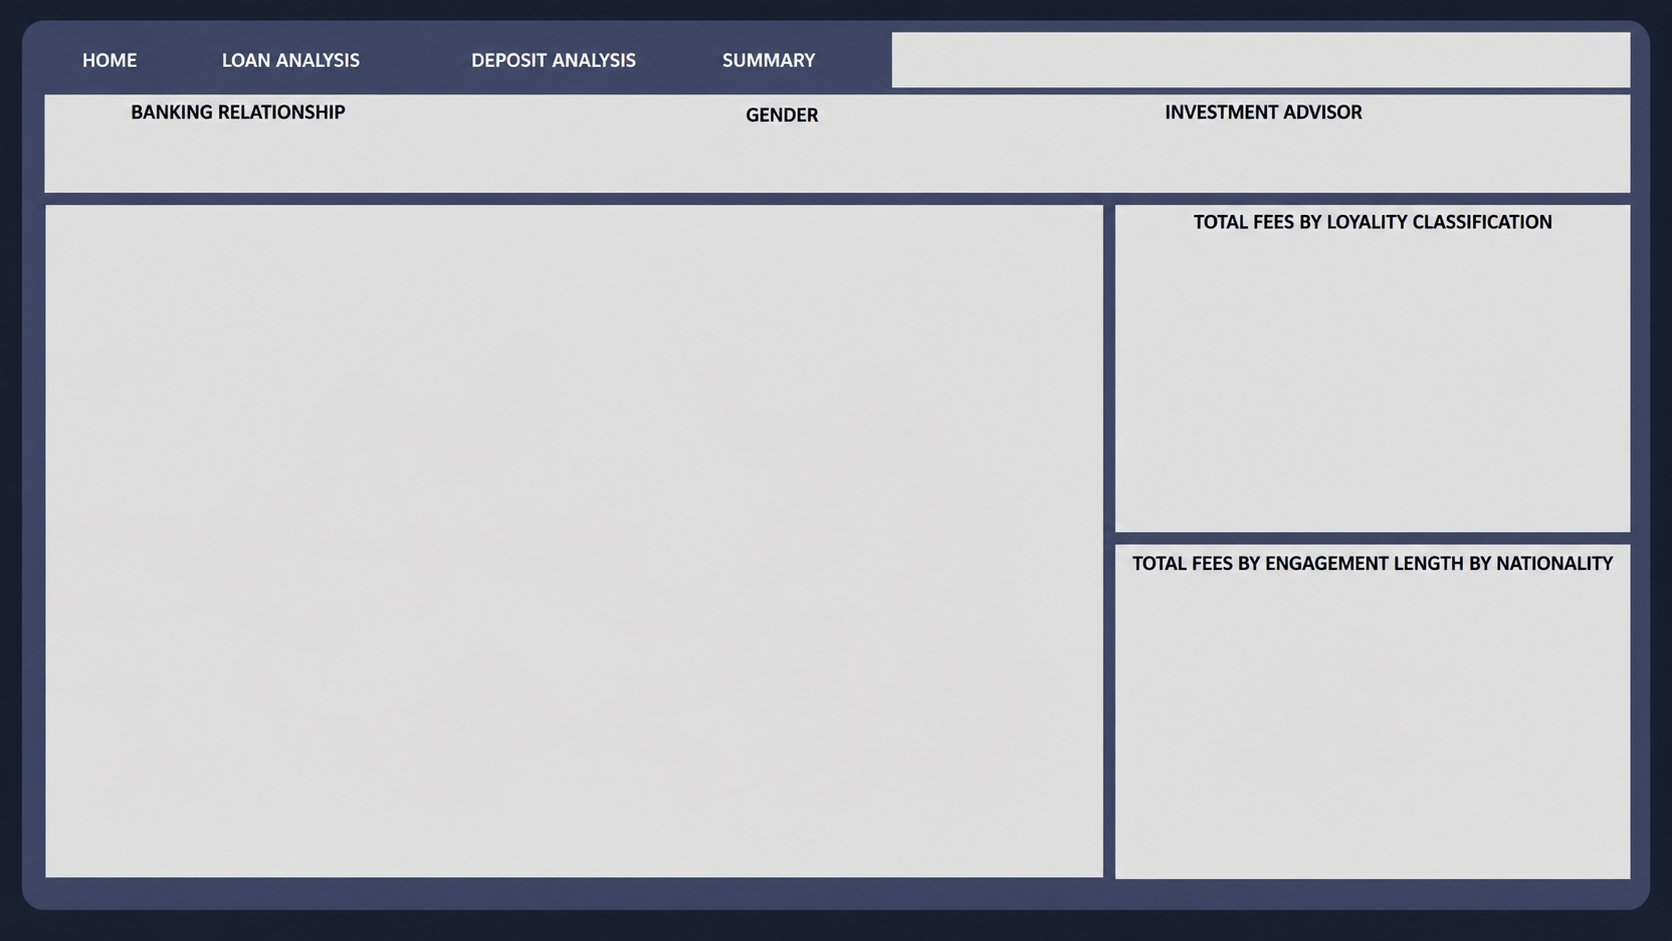

What the dashboard file says about the page in this screenshot:
{"tool":"powerbi","page":{"name":"Drill Through","canvas":[1280,720],"ordinal":4},"visuals":[{"type":"slicer","fields":{"Values":["Banking Relationship.Banking Relationship"]},"box":[77.4,104.4,293.2,76.2],"z":0},{"type":"slicer","fields":{"Values":["Gender.Gender"]},"box":[471.4,104.4,293.2,76.2],"z":1000},{"type":"slicer","fields":{"Values":["Investment Advisor.Investment Advisor"]},"box":[865.4,104.4,293.2,76.2],"z":2000},{"type":"tableEx","fields":{"Values":["Clients - Banking.Name","Investment Advisor.Investment Advisor","DAX Measures.Engagment Length","DAX Measures.Total Fees","DAX Measures.Total CC Amount","DAX Measures.Credit Cards"]},"box":[72.7,207.6,777.5,458.5],"z":3000},{"type":"actionButton","box":[8.2,10.6,41,34],"z":4000},{"type":"clusteredColumnChart","fields":{"Category":["Clients - Banking.Loyalty Classification"],"Y":["DAX Measures.Total Fees"]},"box":[873.6,218.4,336.5,225.1],"z":5000},{"type":"columnChart","fields":{"Category":["Clients - Banking.Nationality"],"Y":["DAX Measures.Total Fees"]},"box":[873.6,444.4,336.5,221.6],"z":6000},{"type":"slicer","fields":{"Values":["Period.Name"]},"box":[555.2,34.6,702.1,46.6],"z":7000},{"type":"actionButton","box":[72.8,44.2,58.5,31],"z":8000},{"type":"actionButton","box":[157.1,44.6,125.5,30.5],"z":9000},{"type":"actionButton","box":[297.9,44.6,151.3,30.5],"z":10000},{"type":"actionButton","box":[471.4,44.6,83.3,37.5],"z":11000}]}

Visuals, with their boxes in screenshot pixels (x1, y1, x2, y2), scaled from the page's 1280x720 canvas onto the 1672x941 screenshot:
slicer - Banking Relationship.Banking Relationship: {"left": 101, "top": 136, "right": 484, "bottom": 236}
slicer - Gender.Gender: {"left": 616, "top": 136, "right": 999, "bottom": 236}
slicer - Investment Advisor.Investment Advisor: {"left": 1130, "top": 136, "right": 1513, "bottom": 236}
tableEx - Clients - Banking.Name x Investment Advisor.Investment Advisor: {"left": 95, "top": 271, "right": 1111, "bottom": 871}
actionButton: {"left": 11, "top": 14, "right": 64, "bottom": 58}
clusteredColumnChart - Clients - Banking.Loyalty Classification x DAX Measures.Total Fees: {"left": 1141, "top": 285, "right": 1581, "bottom": 580}
columnChart - Clients - Banking.Nationality x DAX Measures.Total Fees: {"left": 1141, "top": 581, "right": 1581, "bottom": 870}
slicer - Period.Name: {"left": 725, "top": 45, "right": 1642, "bottom": 106}
actionButton: {"left": 95, "top": 58, "right": 172, "bottom": 98}
actionButton: {"left": 205, "top": 58, "right": 369, "bottom": 98}
actionButton: {"left": 389, "top": 58, "right": 587, "bottom": 98}
actionButton: {"left": 616, "top": 58, "right": 725, "bottom": 107}
